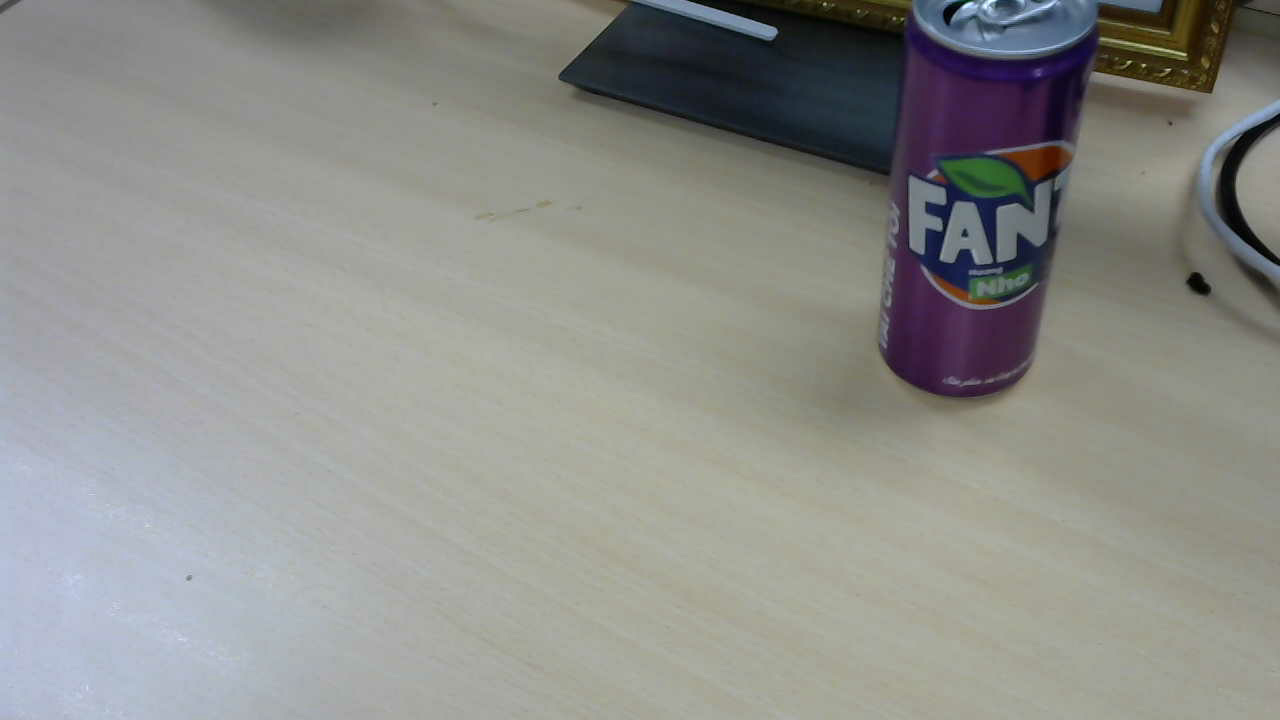Fanta: (880, 4, 1104, 403)
